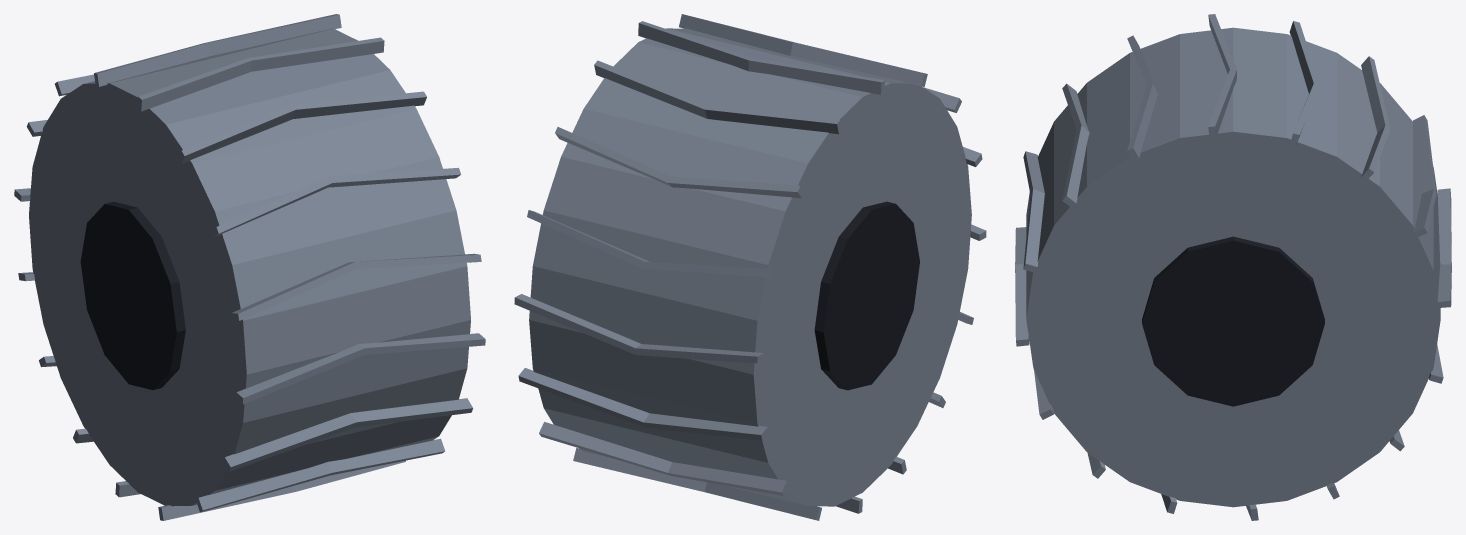
File: Wheel_Standard.glb
3 views of the same model, side by side, from view 1: azimuth 30°, elevation 25°; view 2: azimuth 150°, elevation 25°; view 3: azimuth 270°, elevation 25° (orthographic). The views are drawn at different scales.
Parts seen in each view (by area): view 1: Wheel_Standard; view 2: Wheel_Standard; view 3: Wheel_Standard.
Part boxes in pixels (x1,y1,x2,y2): Wheel_Standard: [14, 14, 485, 520]; Wheel_Standard: [514, 14, 986, 520]; Wheel_Standard: [1015, 14, 1451, 520].
Size of the model in its own units: 0.32 by 0.525 by 0.525.
